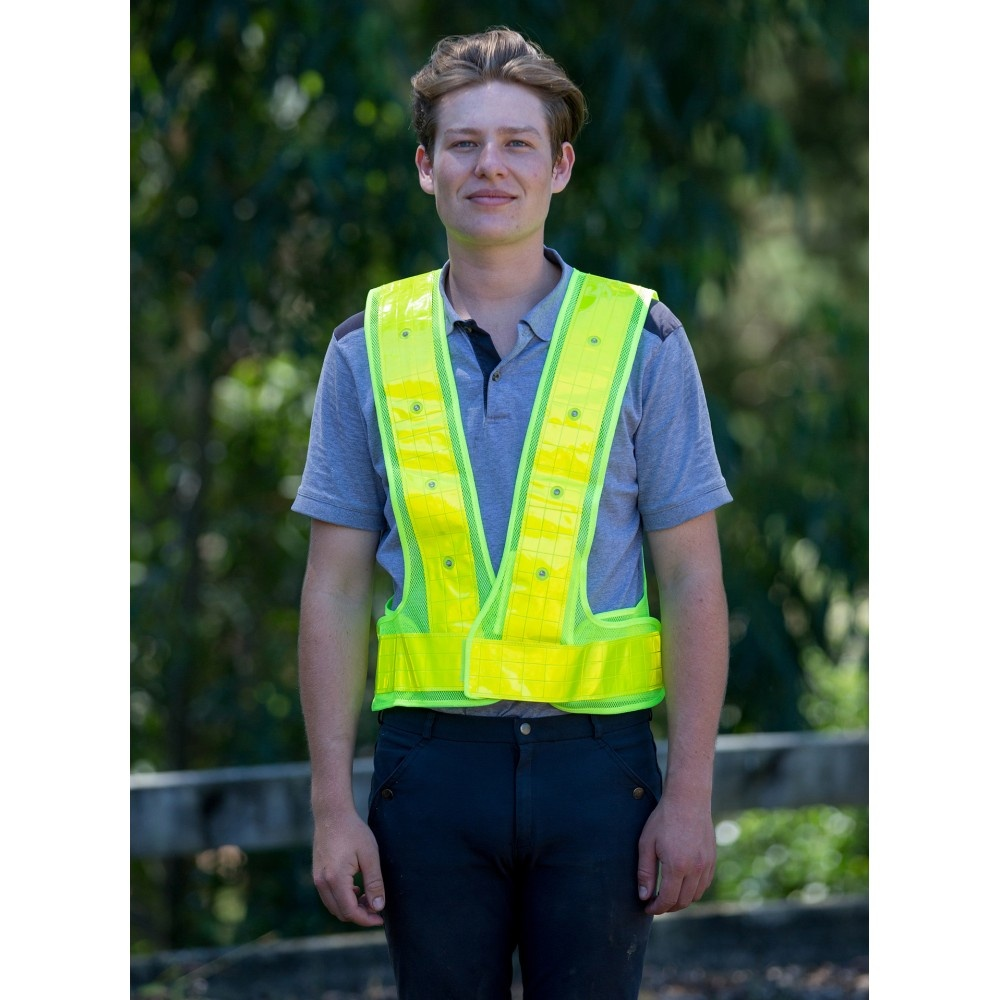person with partial safety: (279, 36, 716, 993)
safety vest: (341, 274, 694, 733)
